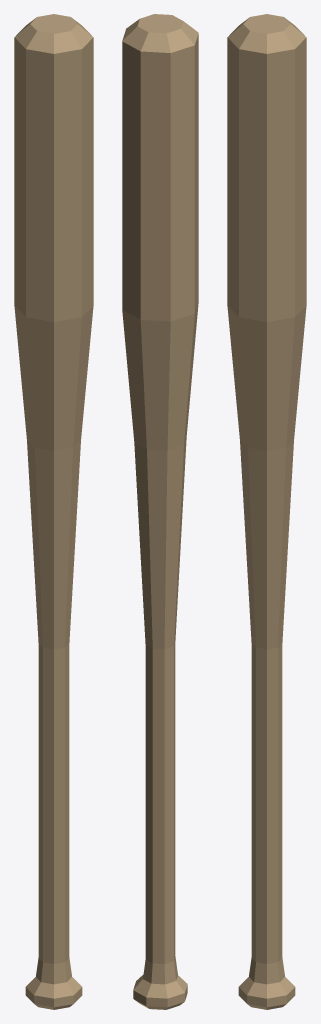
Rendered from BaseballBat_Mesh.fbx.
3 renders of one model, left to right at view 1: azimuth 90°, elevation 25°; view 2: azimuth 150°, elevation 25°; view 3: azimuth 270°, elevation 25°, orthographic.
Visible parts, largest first — view 1: pCylinder25; view 2: pCylinder25; view 3: pCylinder25.
Boxes of the visible parts, x1=… form: pCylinder25: x1=14, y1=14, x2=93, y2=1009; pCylinder25: x1=122, y1=14, x2=198, y2=1009; pCylinder25: x1=227, y1=14, x2=306, y2=1009.
Size of the model in its own units: 7.71 by 105 by 7.71.
